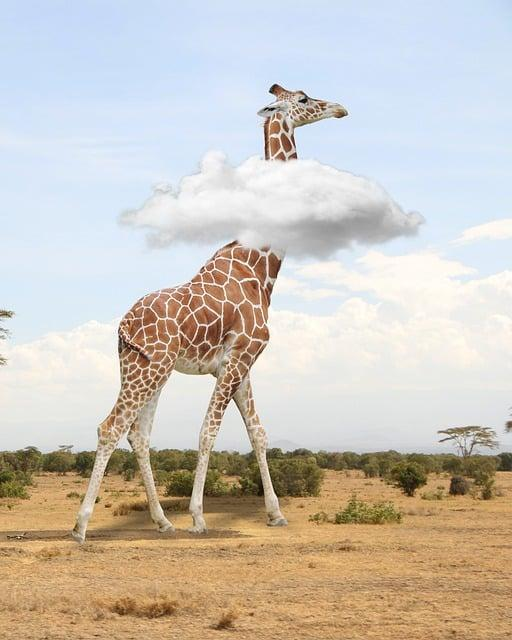Non_Gorille: (57, 3, 497, 544)
